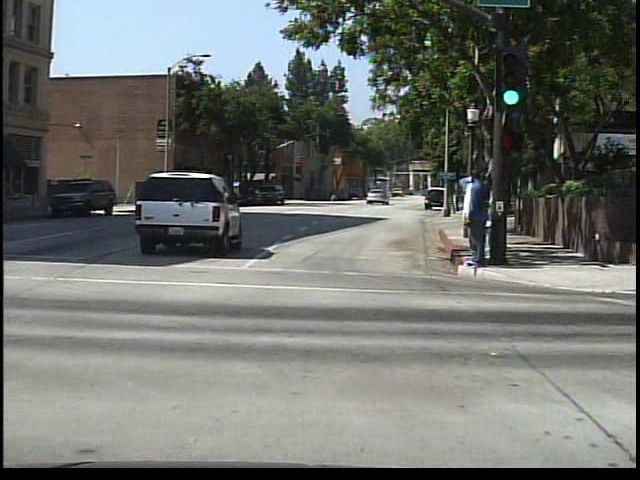person: (463, 168, 490, 271), (455, 172, 483, 270), (326, 186, 337, 203)
